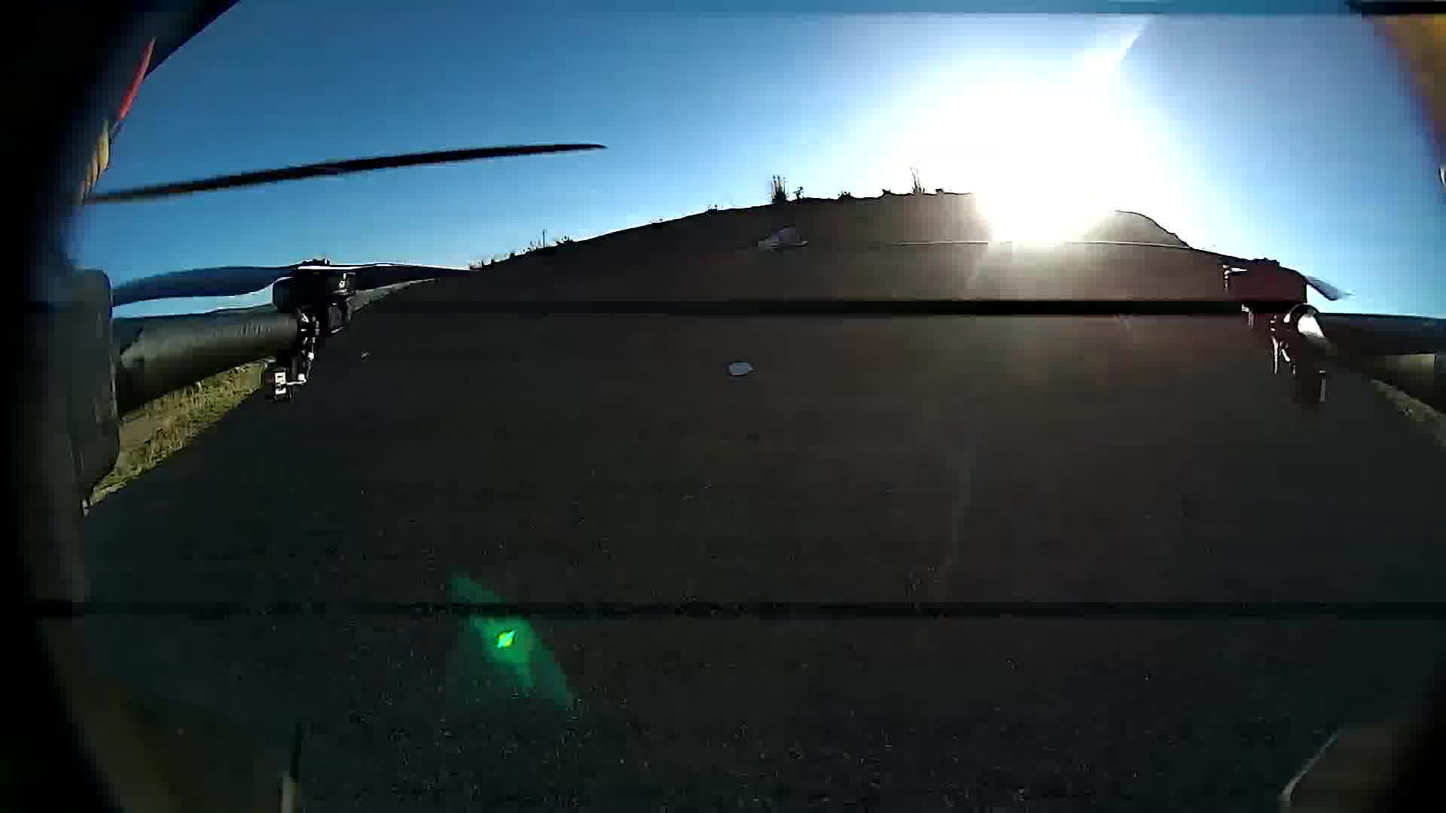Target: (728, 357, 760, 380)
